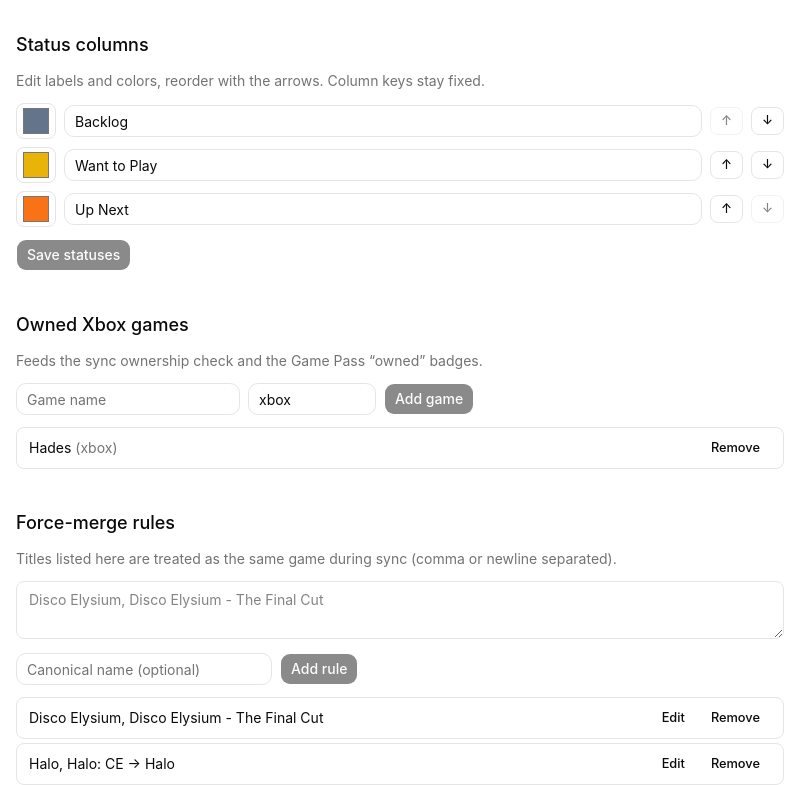
Test: SettingsPage › deletes a force-merge rule
The width and height of the screenshot is (801, 785).
(page scrolled)
Click the button with aria-label "Remove rule Halo".
click(735, 764)  # box [700,750,771,778]
(page scrolled)
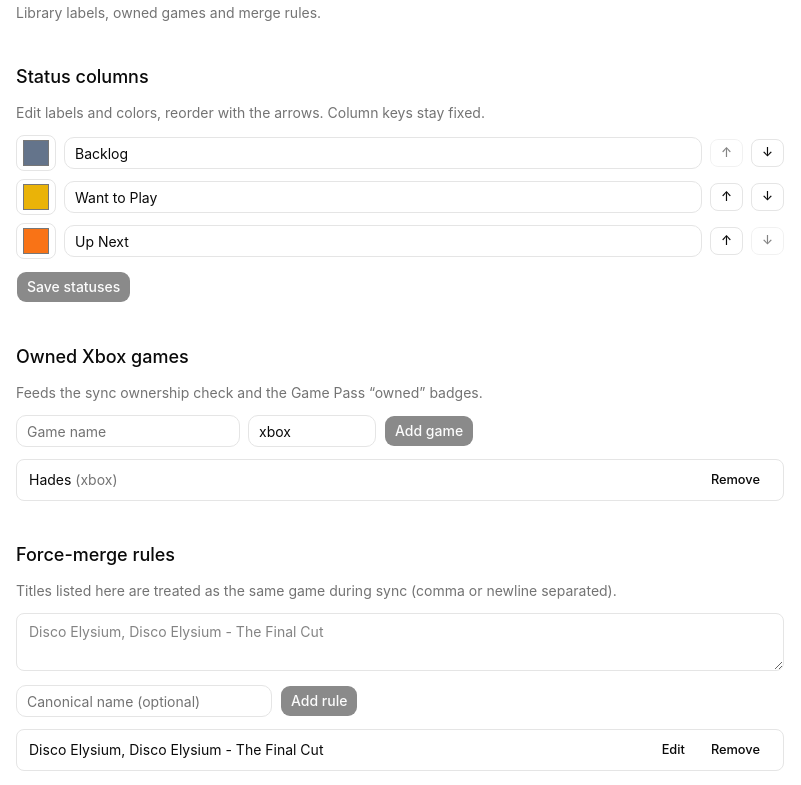
Result: the text "Halo, Halo: CE" is gone
